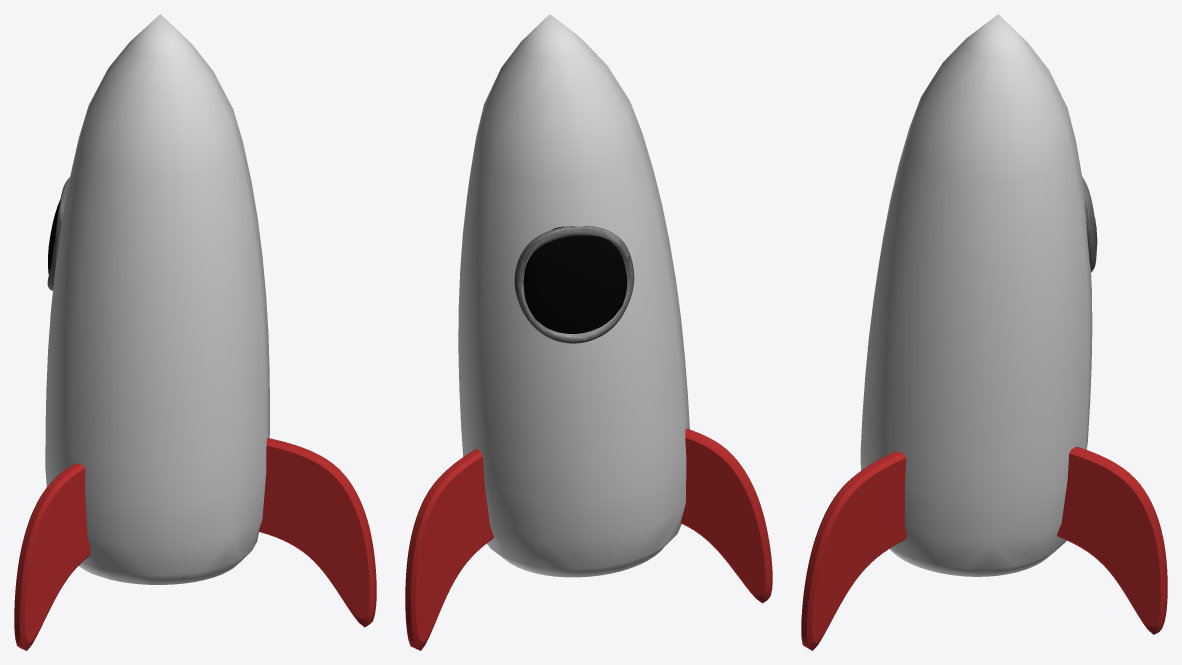
File: rocketShipGEO.obj
3 renders of one model, left to right at view 1: azimuth 30°, elevation 25°; view 2: azimuth 150°, elevation 25°; view 3: azimuth 270°, elevation 25°, orthographic.
Visible parts, largest first — view 1: ourShip; view 2: ourShip; view 3: ourShip.
Part boxes in pixels (x1=…): ourShip: x1=14, y1=14, x2=376, y2=650; ourShip: x1=405, y1=14, x2=772, y2=650; ourShip: x1=801, y1=14, x2=1167, y2=650.
Size of the model in its own units: 1.02 by 1.87 by 1.05.
Materials: 4 (1 with a texture image).
